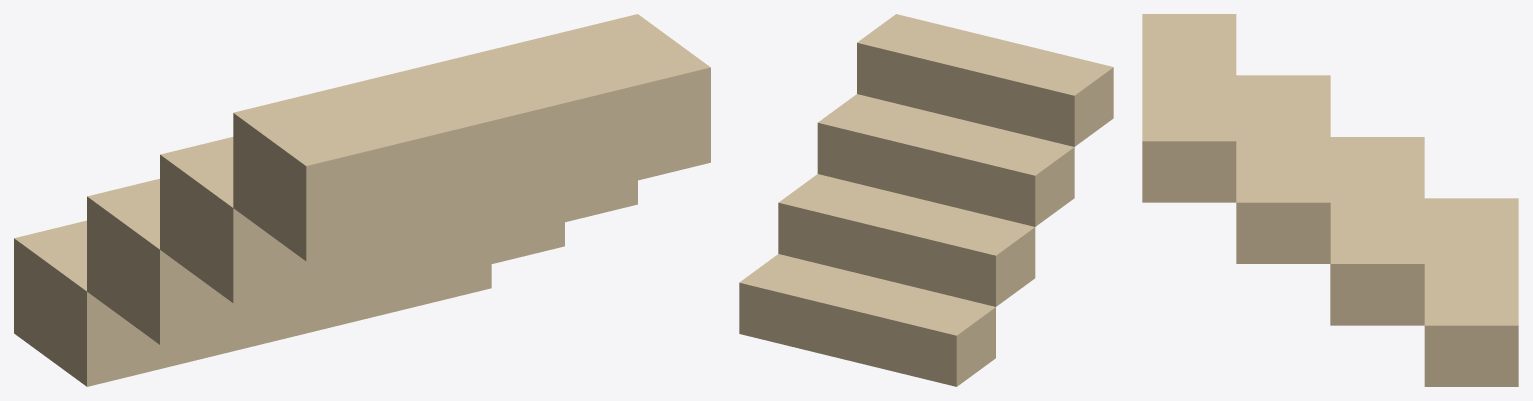
Rendered from stairs.glb.
3 views of the same model, side by side, from view 1: azimuth 30°, elevation 25°; view 2: azimuth 150°, elevation 25°; view 3: azimuth 270°, elevation 25° (orthographic). The views are drawn at different scales.
Visible parts, largest first — view 1: steps; view 2: steps; view 3: steps.
Part boxes in pixels (left/top/right/bottom): steps: left=14, top=14, right=710, bottom=386; steps: left=739, top=14, right=1113, bottom=386; steps: left=1142, top=14, right=1518, bottom=386.
Size of the model in its own units: 0.8 by 0.72 by 1.
